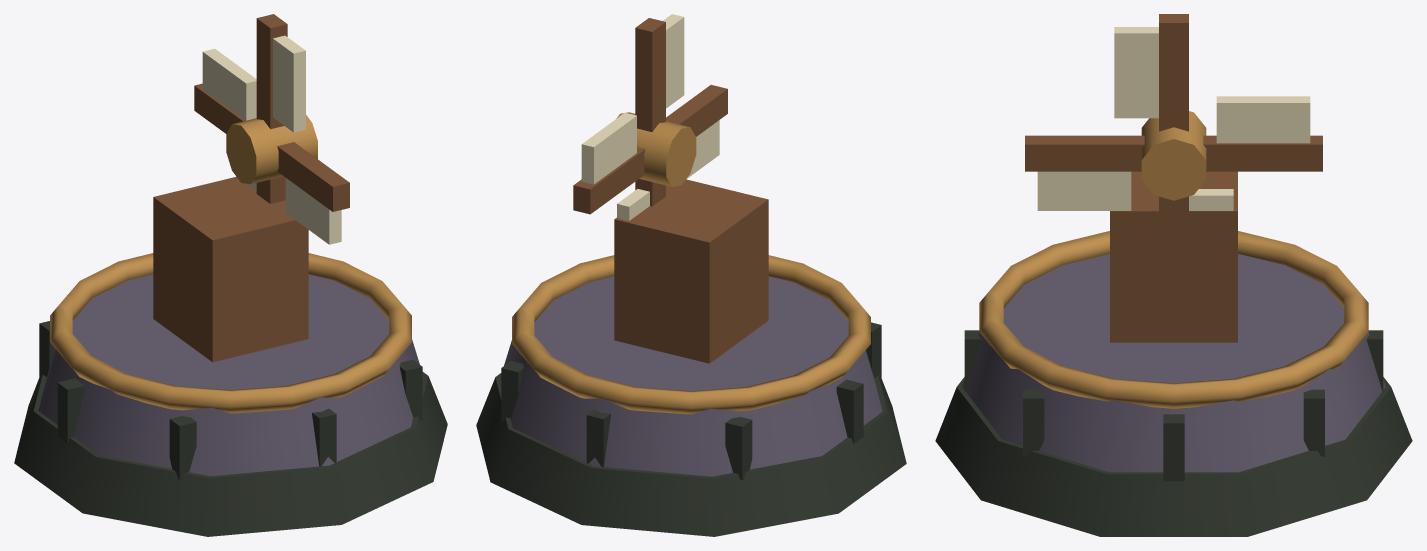
The model's file is tower_wind.glb.
3 views of the same model, side by side, from view 1: azimuth 30°, elevation 25°; view 2: azimuth 150°, elevation 25°; view 3: azimuth 270°, elevation 25° (orthographic). The views are drawn at different scales.
Visible parts, largest first — view 1: stone_1, foot_0, mill_11, rim_2, hub_12, sail_16, spar_17, sail_14, spar_15, sail_18, mortar_6, mortar_7 (+5 smaller); view 2: stone_1, foot_0, mill_11, rim_2, spar_15, hub_12, sail_14, spar_13, spar_17, sail_16, mortar_8, mortar_7 (+5 smaller); view 3: stone_1, foot_0, rim_2, mill_11, hub_12, sail_14, spar_17, sail_16, sail_18, spar_13, spar_15, spar_19 (+6 smaller).
Boxes of the visible parts, x1,y1,x2,y2 form: stone_1: (38, 274, 423, 476); foot_0: (14, 372, 447, 536); mill_11: (153, 176, 308, 362); rim_2: (50, 253, 411, 413); hub_12: (226, 115, 317, 184); sail_16: (273, 35, 305, 132); spar_17: (277, 142, 349, 211); sail_14: (202, 48, 256, 120); spar_15: (256, 14, 287, 129); sail_18: (285, 178, 341, 244); mortar_6: (169, 416, 196, 479); mortar_7: (57, 378, 84, 443); stone_1: (500, 276, 882, 476); foot_0: (476, 373, 906, 536); mill_11: (614, 179, 768, 363); rim_2: (512, 255, 870, 414); spar_15: (635, 18, 665, 131); hub_12: (616, 112, 696, 186); sail_14: (581, 112, 636, 184); spar_13: (573, 147, 645, 214); spar_17: (666, 85, 727, 136); sail_16: (663, 14, 684, 108); mortar_8: (725, 417, 752, 480); mortar_7: (836, 379, 863, 444); stone_1: (962, 254, 1385, 472); foot_0: (935, 377, 1412, 536); rim_2: (979, 231, 1368, 408); mill_11: (1110, 171, 1237, 342); hub_12: (1141, 111, 1206, 200); sail_14: (1216, 96, 1310, 143); spar_17: (1025, 135, 1144, 171); sail_16: (1114, 27, 1158, 118); sail_18: (1037, 171, 1131, 210); spar_13: (1203, 135, 1322, 171); spar_15: (1159, 14, 1188, 131); spar_19: (1159, 196, 1188, 293).
Bounding box in the file's own units: 0.5326 × 0.575 × 0.56.
